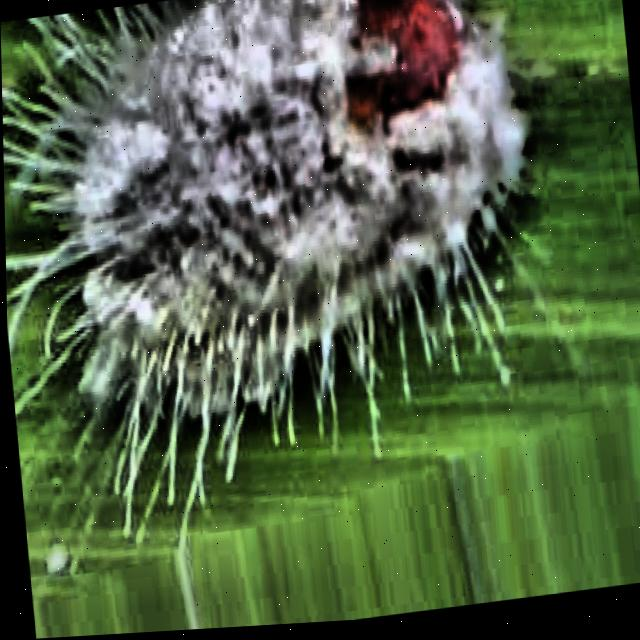Mealy-bug: (0, 0, 586, 542)
